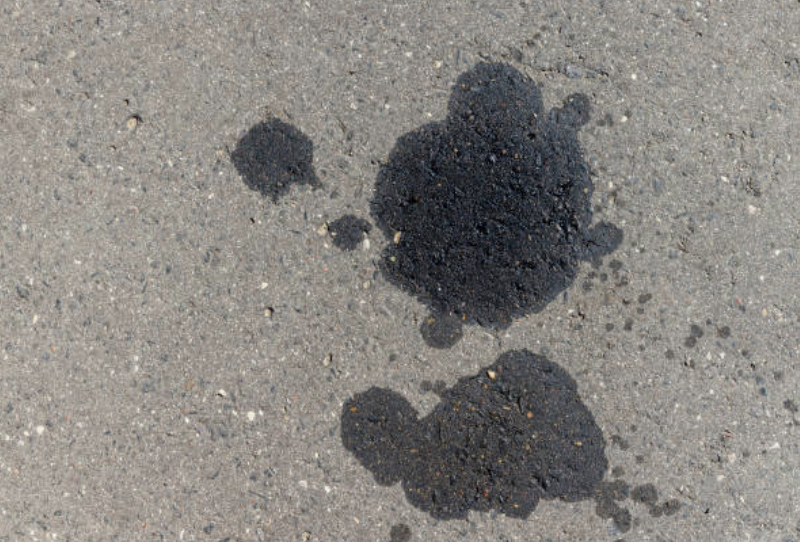oil: (186, 30, 315, 177), (169, 174, 343, 270), (114, 58, 164, 104), (163, 108, 185, 127)
